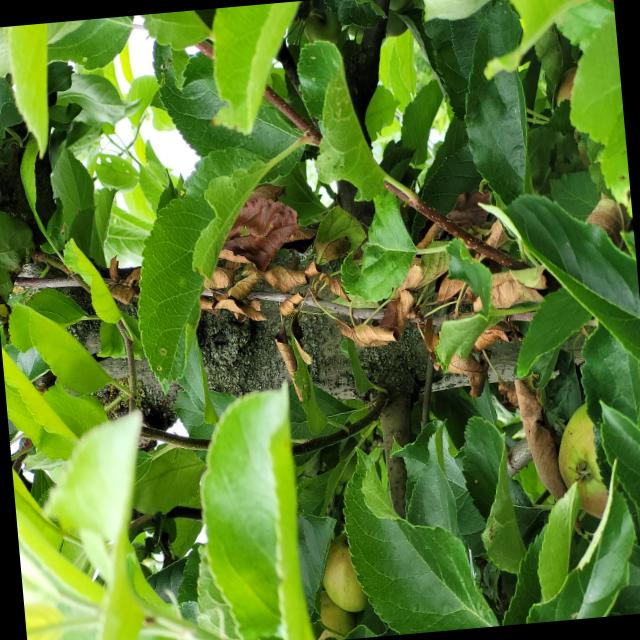-FireBlight-: (197, 185, 541, 394), (510, 377, 566, 494), (440, 326, 514, 401)
